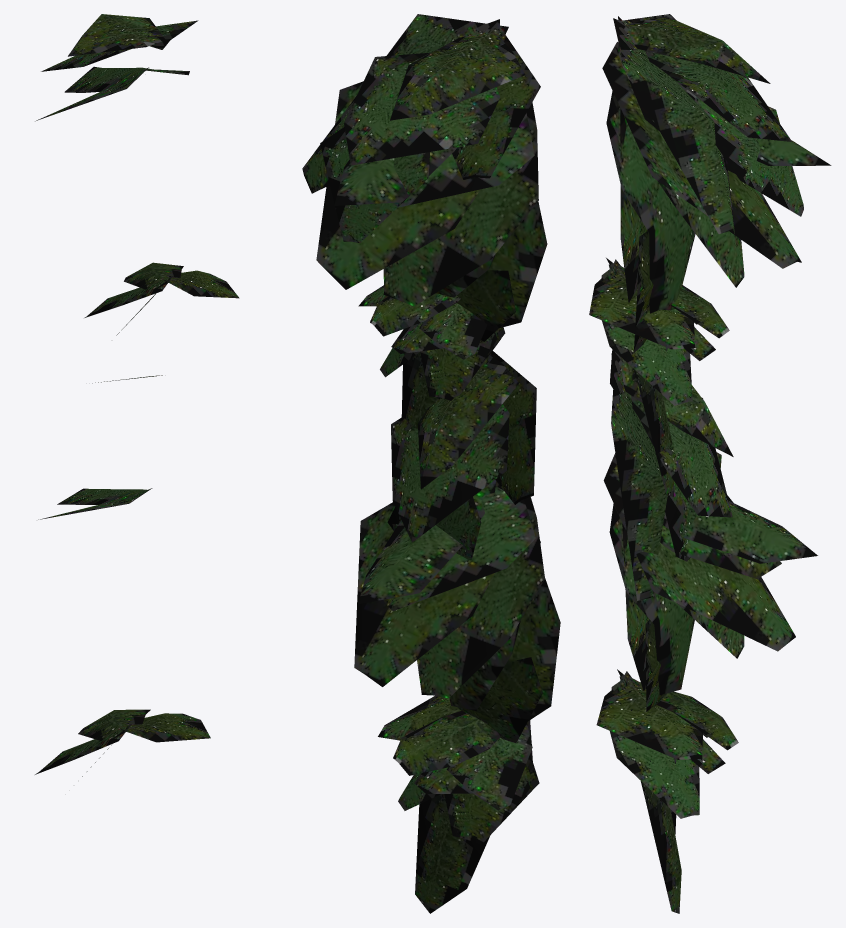
The model's file is scotm_TELEMA_NAT_Juniper_Wall_VeryLong-transformed.glb.
3 views of the same model, side by side, from view 1: azimuth 30°, elevation 25°; view 2: azimuth 150°, elevation 25°; view 3: azimuth 270°, elevation 25° (orthographic). The views are drawn at different scales.
Parts seen in each view (by area): view 1: default; view 2: default; view 3: default.
Part boxes in pixels (left/top/right/bottom): default: left=35, top=14, right=239, bottom=776; default: left=302, top=14, right=560, bottom=913; default: left=589, top=14, right=831, bottom=913.
Size of the model in its own units: 1.12 by 3.93 by 0.9857.
1 material, 1 textured.
